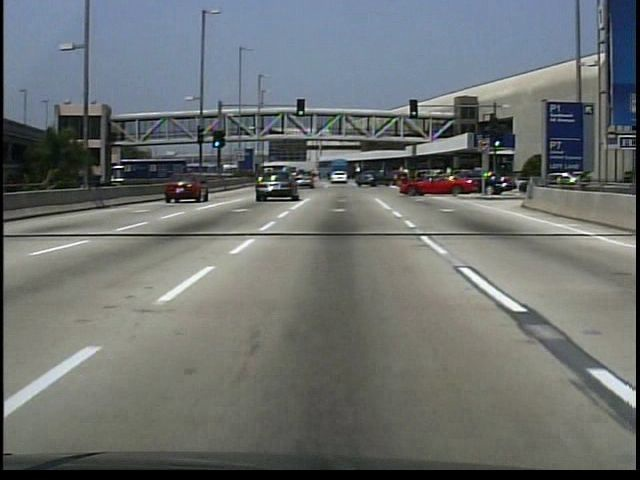person: (237, 126, 242, 137)
